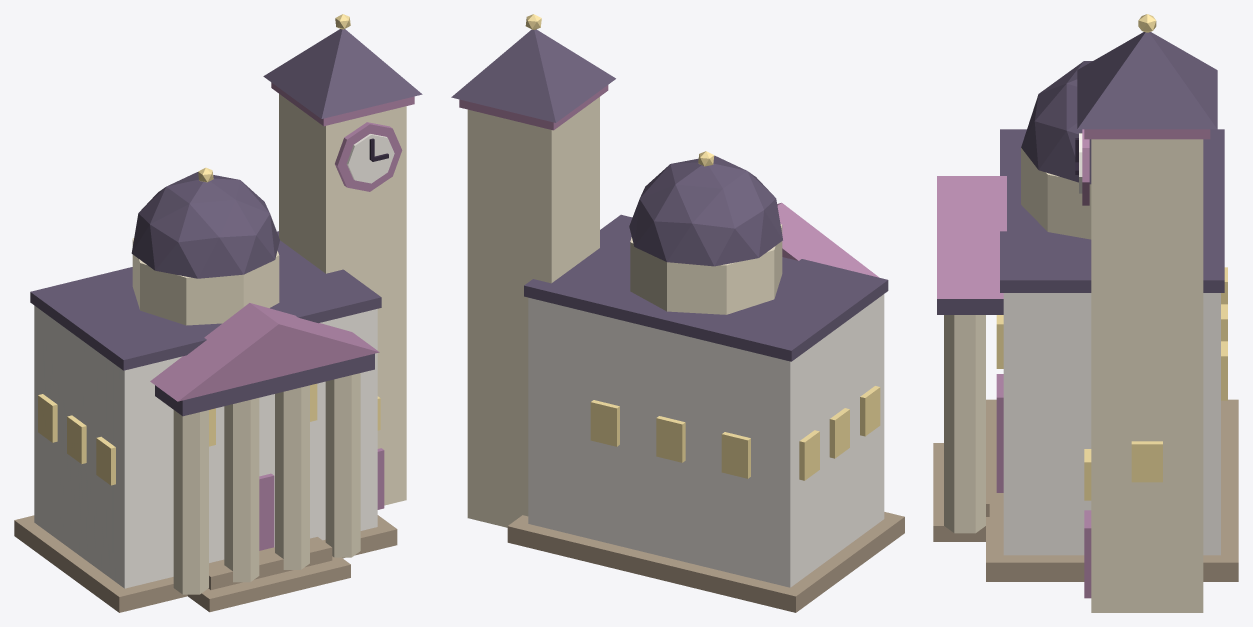
File: city-landmark-s3.glb
3 views of the same model, side by side, from view 1: azimuth 30°, elevation 25°; view 2: azimuth 150°, elevation 25°; view 3: azimuth 270°, elevation 25° (orthographic). The views are drawn at different scales.
Parts seen in each view (by area): view 1: city-landmark-s3; view 2: city-landmark-s3; view 3: city-landmark-s3.
Part boxes in pixels (x1,y1,x2,y2): city-landmark-s3: (14, 14, 422, 612); city-landmark-s3: (451, 14, 904, 612); city-landmark-s3: (933, 14, 1238, 612).
Bounding box in the file's own units: 1.35 × 1.81 × 0.87.
